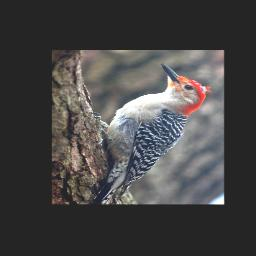Woodpecker: (90, 64, 212, 204)
